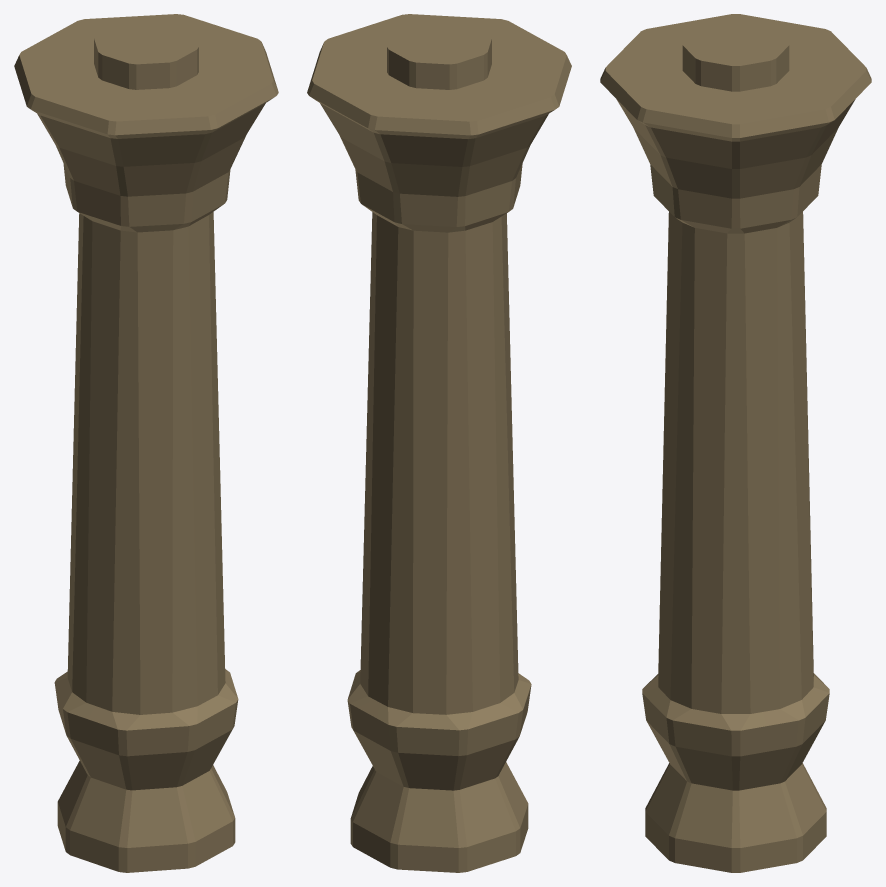
The model's file is Column_1_low.fbx.
The picture shows the model from 3 angles, left to right: view 1: azimuth 30°, elevation 25°; view 2: azimuth 150°, elevation 25°; view 3: azimuth 270°, elevation 25°; orthographic projection.
Visible parts, largest first — view 1: Column_1_low; view 2: Column_1_low; view 3: Column_1_low.
Boxes of the visible parts, bbox=[...] form: Column_1_low: bbox=[14, 14, 278, 872]; Column_1_low: bbox=[307, 14, 571, 872]; Column_1_low: bbox=[600, 14, 871, 872].
Bounding box in the file's own units: 1.12 × 3.6 × 1.12.
